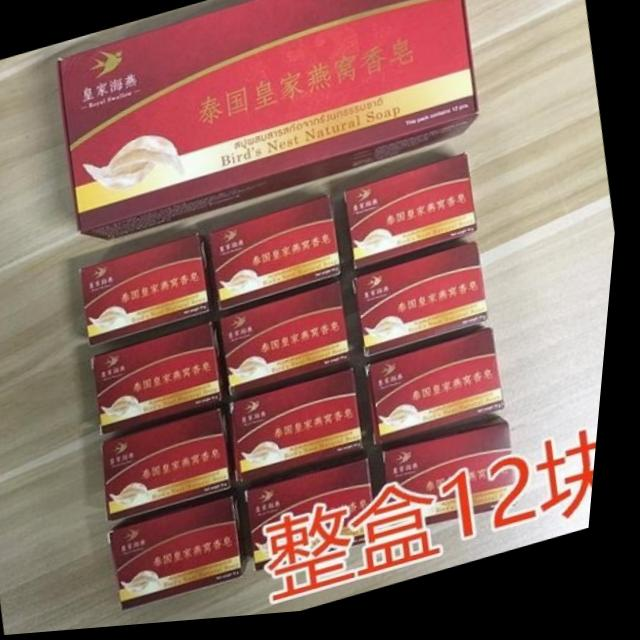box: (56, 0, 482, 243), (367, 336, 513, 453), (235, 373, 376, 494), (117, 496, 258, 612), (357, 248, 496, 364), (391, 423, 530, 538), (224, 284, 359, 400), (254, 460, 390, 575), (96, 325, 233, 437), (107, 412, 243, 524), (346, 160, 480, 273), (85, 236, 216, 348), (216, 201, 347, 313)
